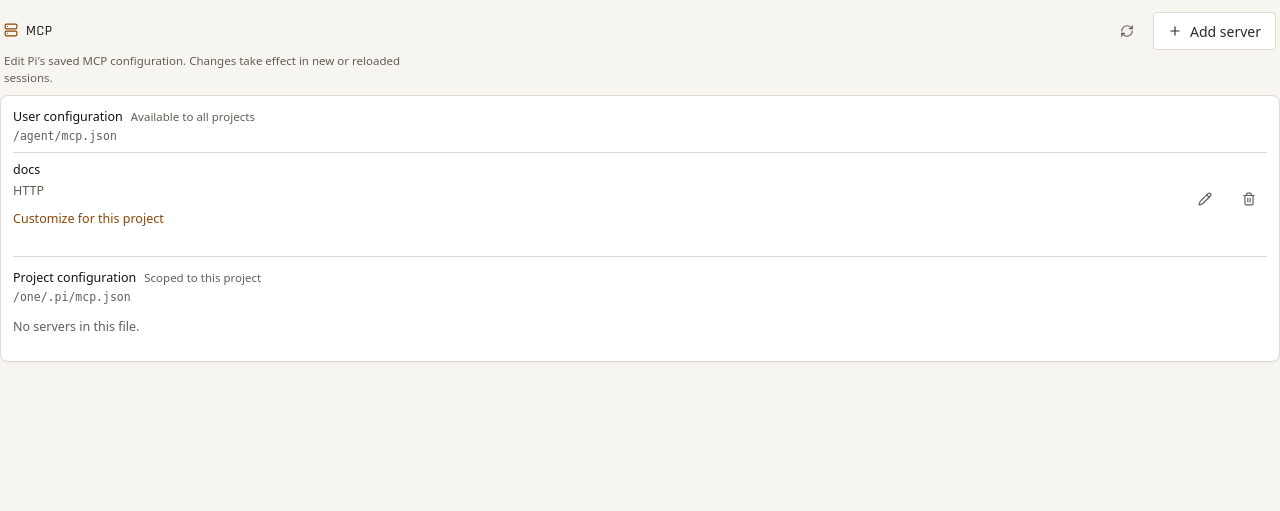
Test: keeps MCP file editing available for an external owner and directs reload to its terminal
Click the button named "Edit user server docs" at (1205, 199), box [1187, 181, 1223, 217]
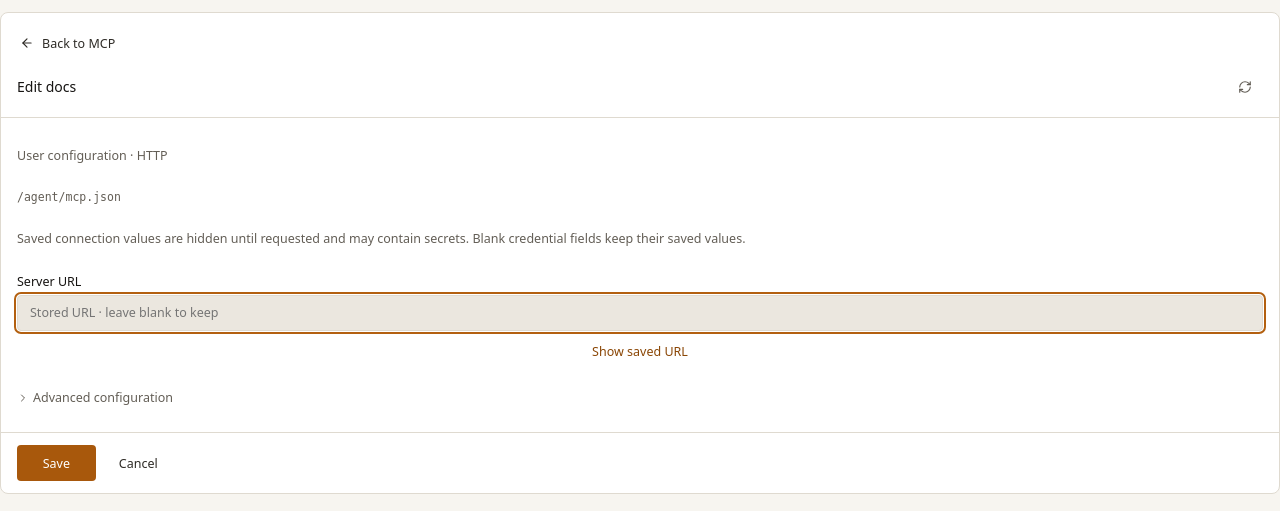
Submit the form "Save"
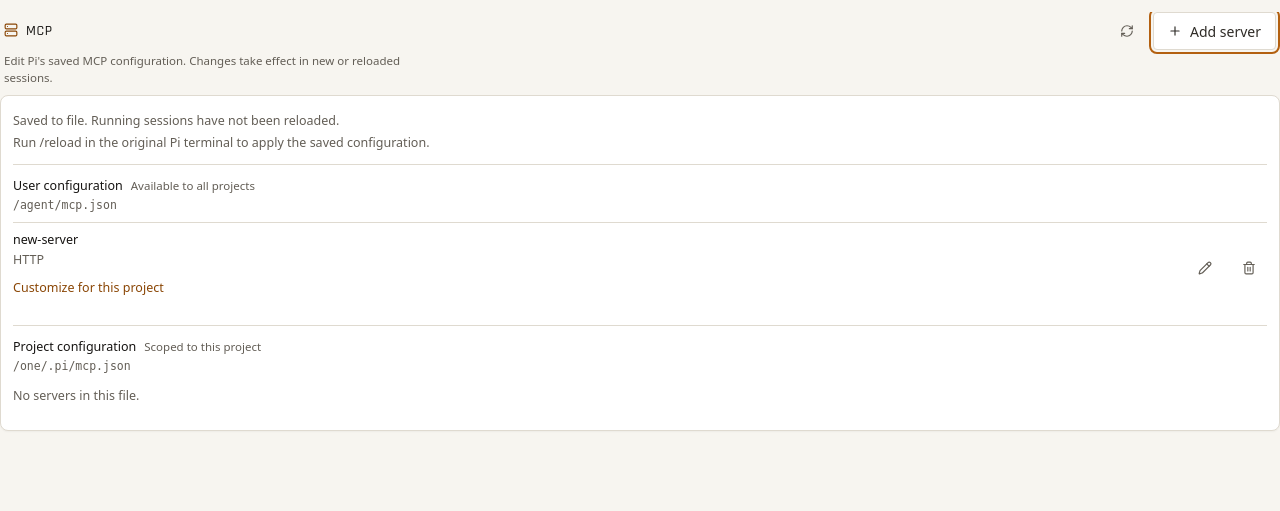
Check: the text "Saved to file. Running sessions have not been reloaded." is shown, box [13, 112, 339, 129]
Check: the text "Run /reload in the original Pi terminal to apply the saved configuration." is shown, box [13, 134, 430, 151]
Check: the button "Add server" is enabled, box [1153, 12, 1276, 50]
